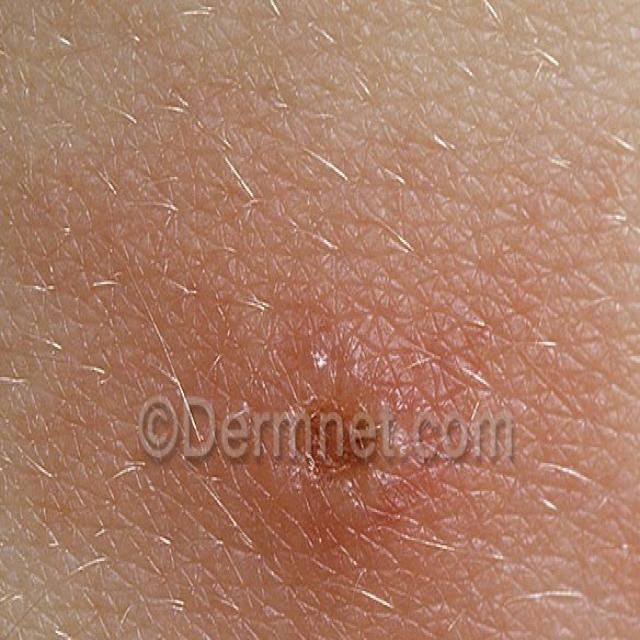Viral Infections: (182, 256, 486, 640)
